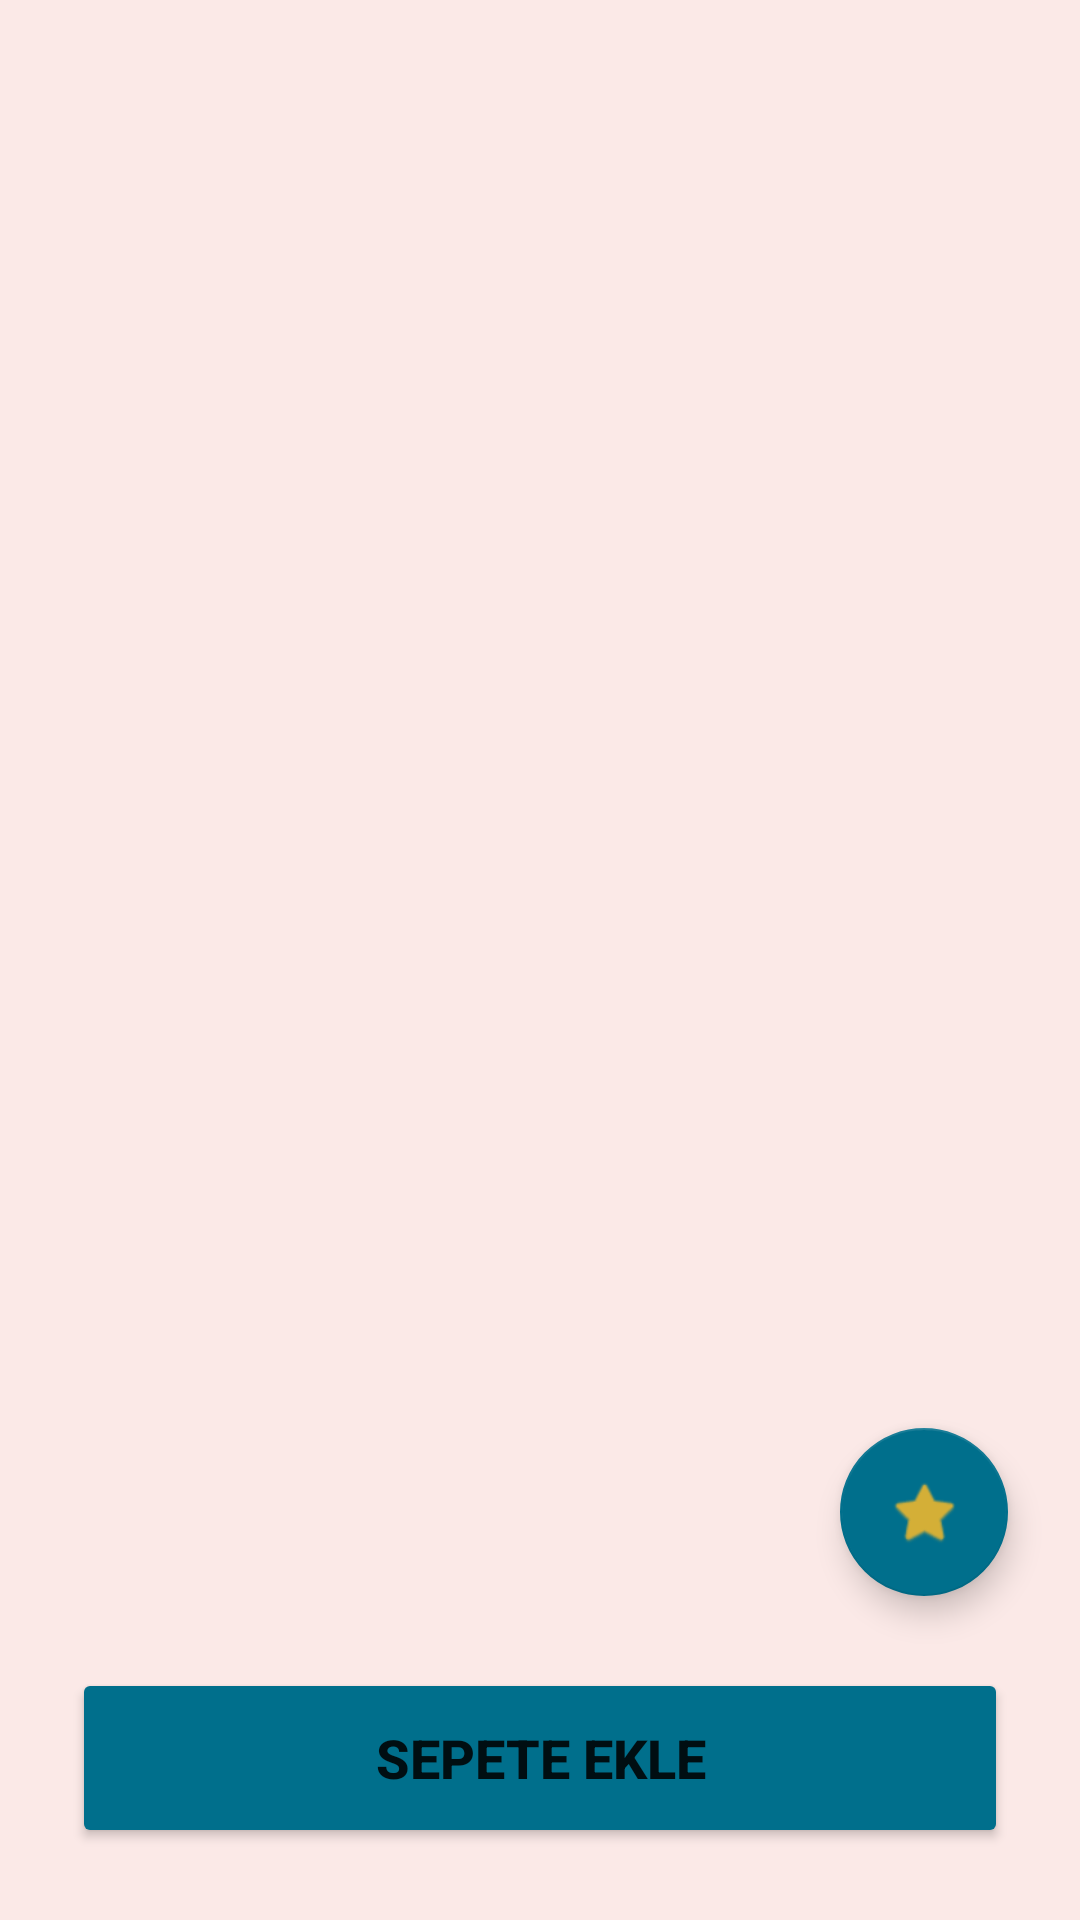

Where icons sit on this 1080×1920 app screen, as (x1, y1, x2, y2):
star off: (840, 1428, 1008, 1596)
